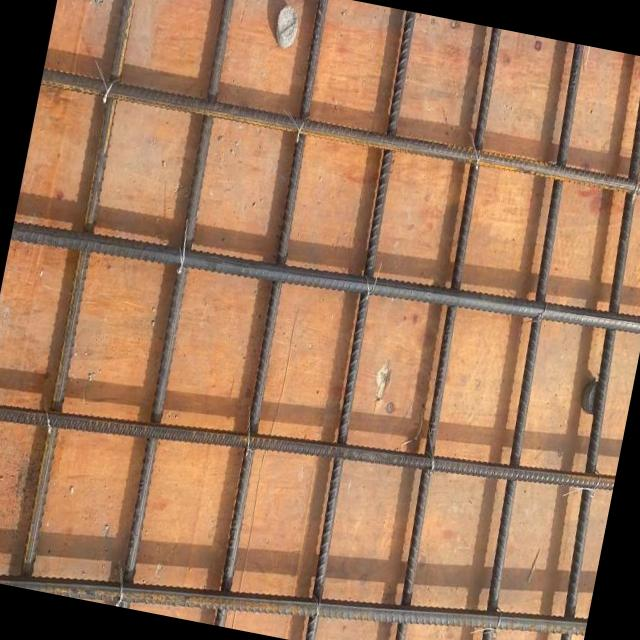ribbed bar: (0, 354, 615, 544), (10, 195, 640, 363), (284, 11, 437, 640), (368, 27, 523, 640), (195, 0, 346, 626), (452, 43, 607, 640), (103, 0, 250, 607), (41, 60, 640, 203), (8, 0, 153, 576), (0, 499, 588, 640), (522, 57, 640, 640)
